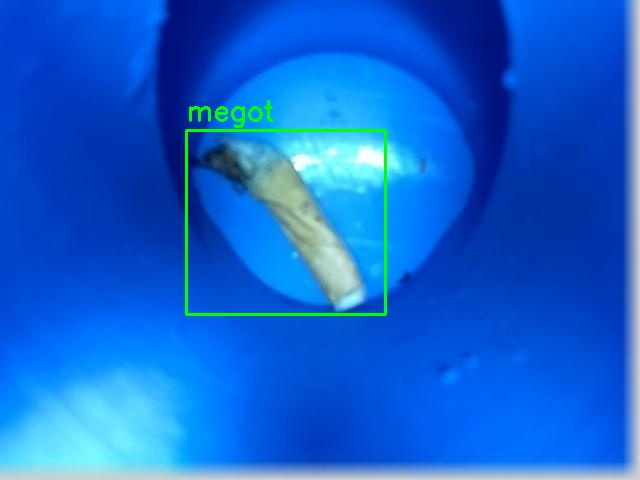megot: (186, 130, 385, 314)
